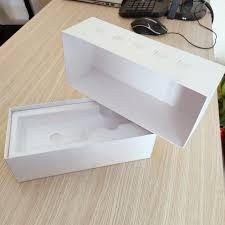box: (62, 16, 225, 149), (3, 92, 157, 183)
